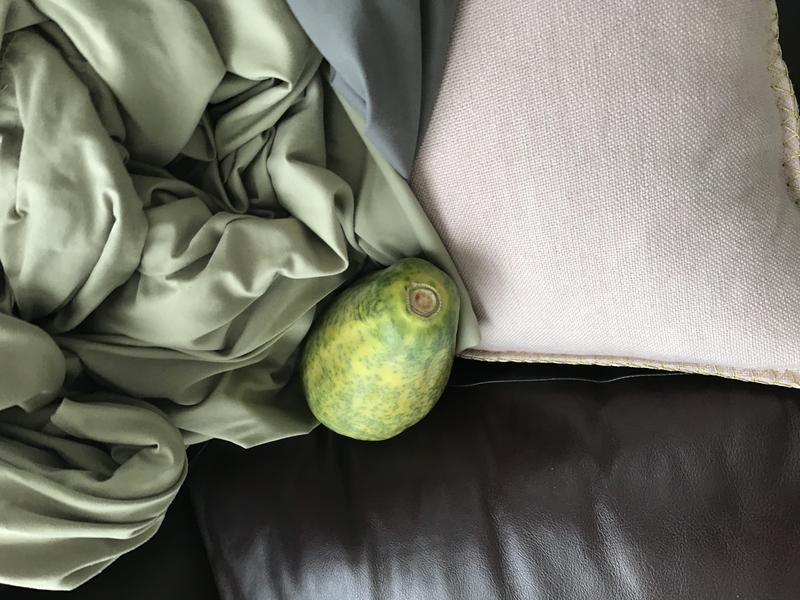papaya: (294, 249, 467, 454)
